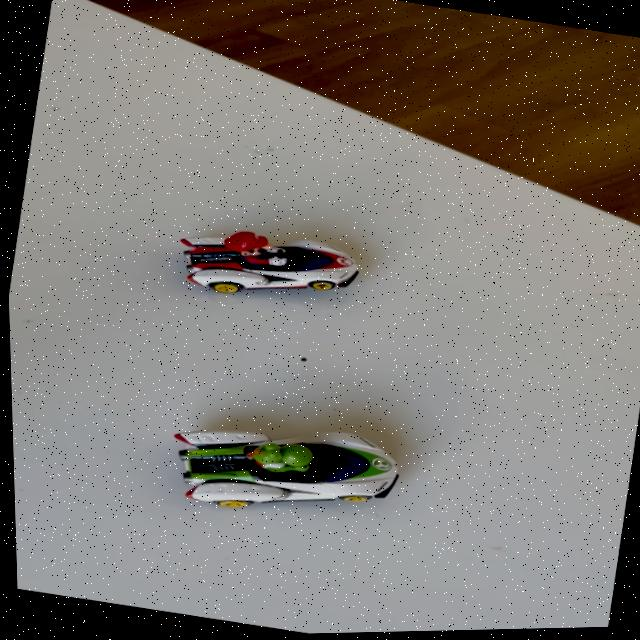mario: (153, 203, 386, 326)
yoshi: (145, 396, 418, 547)
